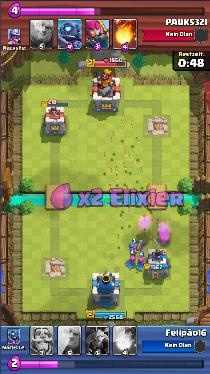ally_archer: (136, 256, 146, 272), (125, 256, 136, 268)
ally_musketeer: (127, 238, 141, 252)
enemy_arrow: (106, 122, 151, 227)
